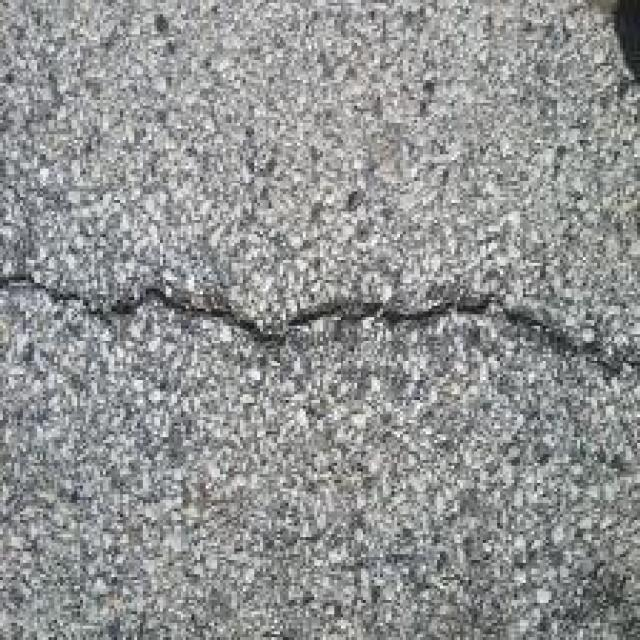crack: (0, 202, 640, 428)
